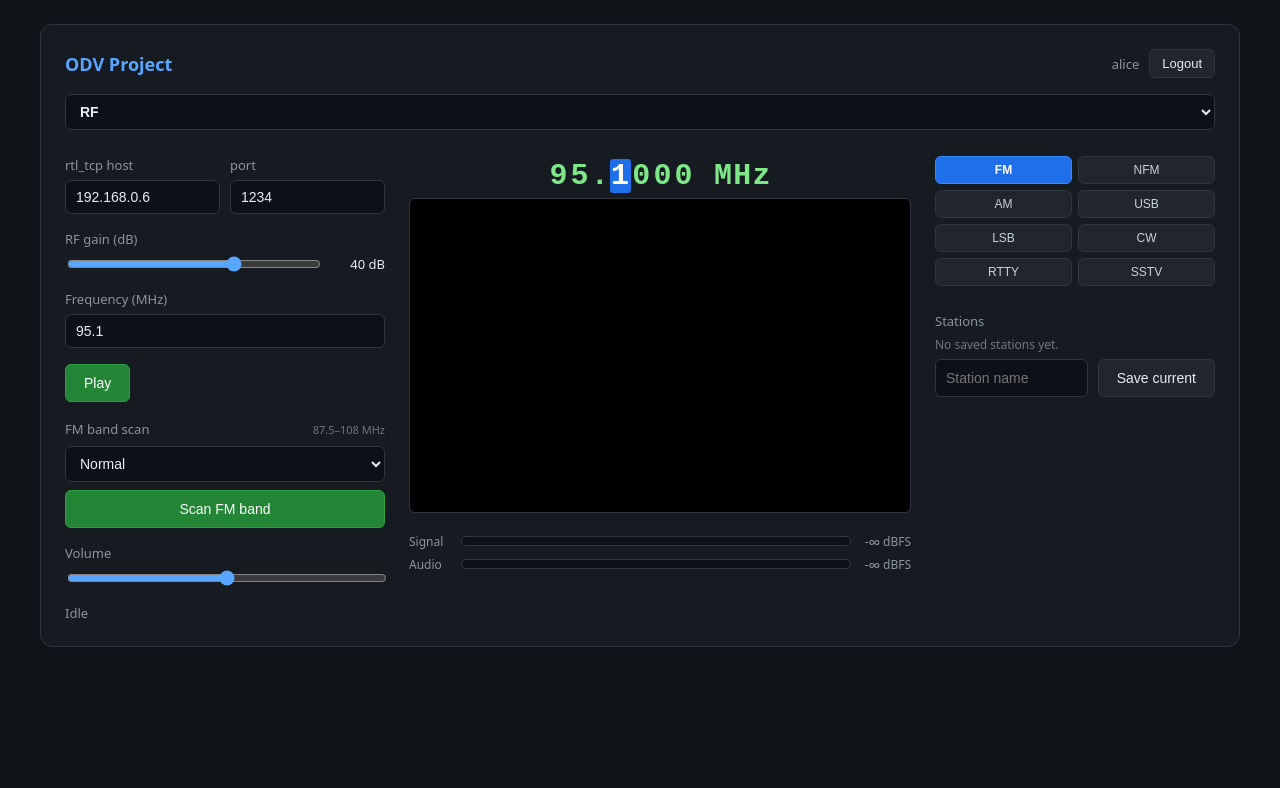
Scenario: App › tuning knob steps change the chosen frequency digit
Expected: the text "Stations" is shown, [935,312,984,330]
Click the button "NFM" at (1146, 170), box [1078,156,1215,184]
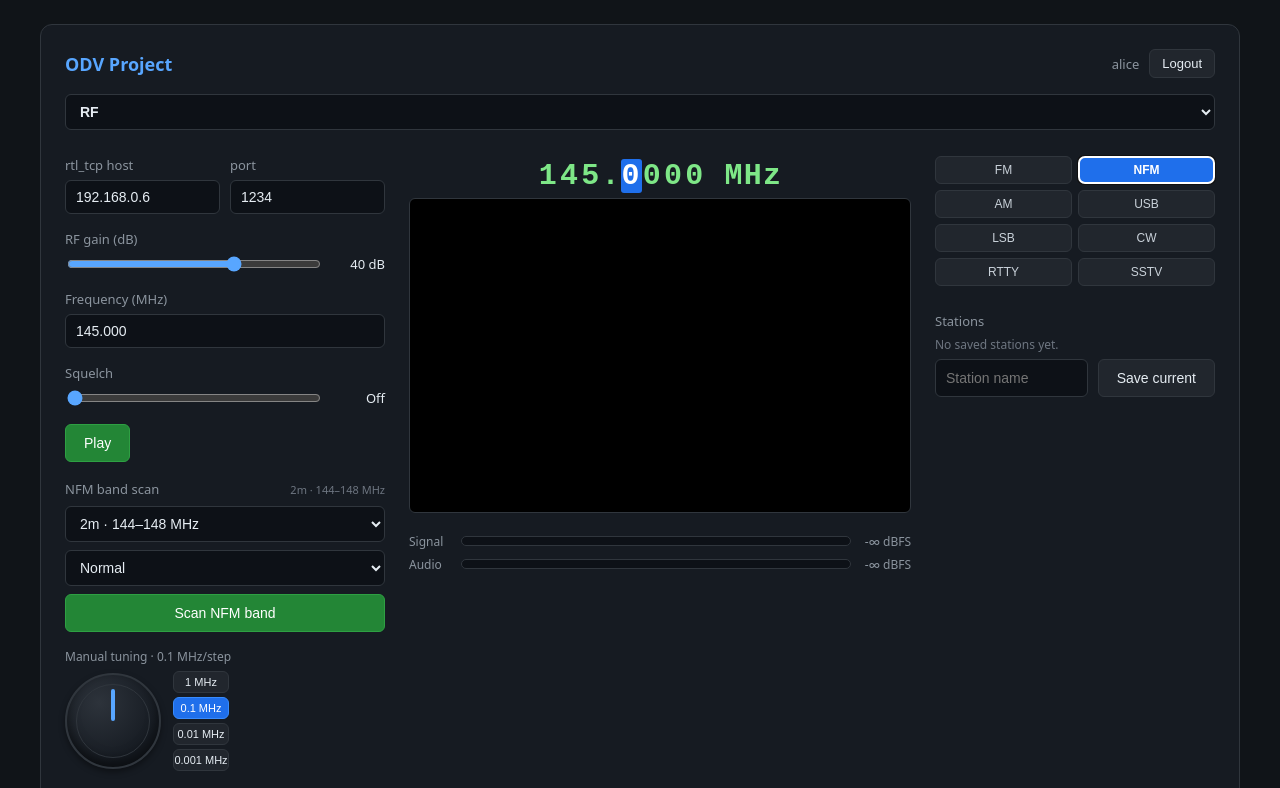
Expected: the text "NFM band scan" is shown, [65,480,159,498]
Click the button "1 MHz" at (201, 682), box [173,671,229,693]
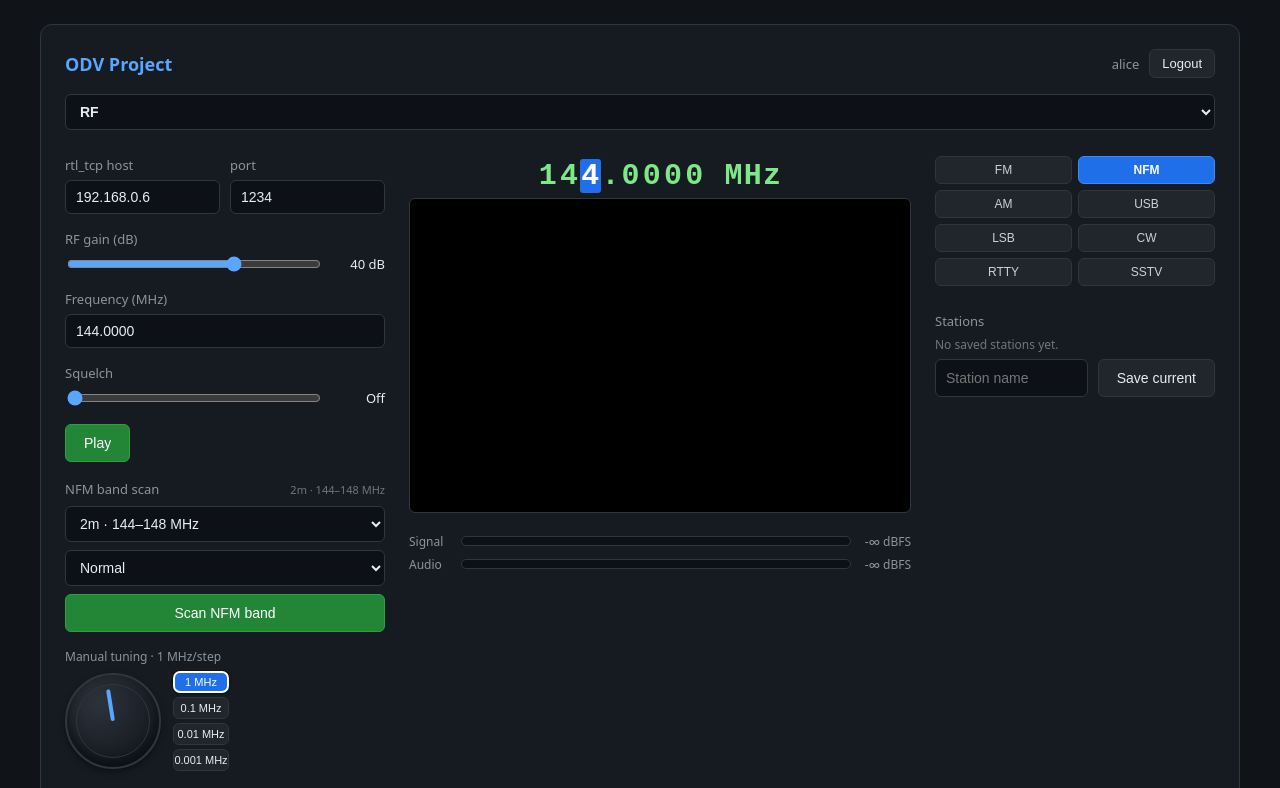
Expected: the element with class "tuned-freq" reads "144.0000 MHz", [539,159,782,193]
Click the button "0.001 MHz" at (201, 760), box [173,749,229,771]
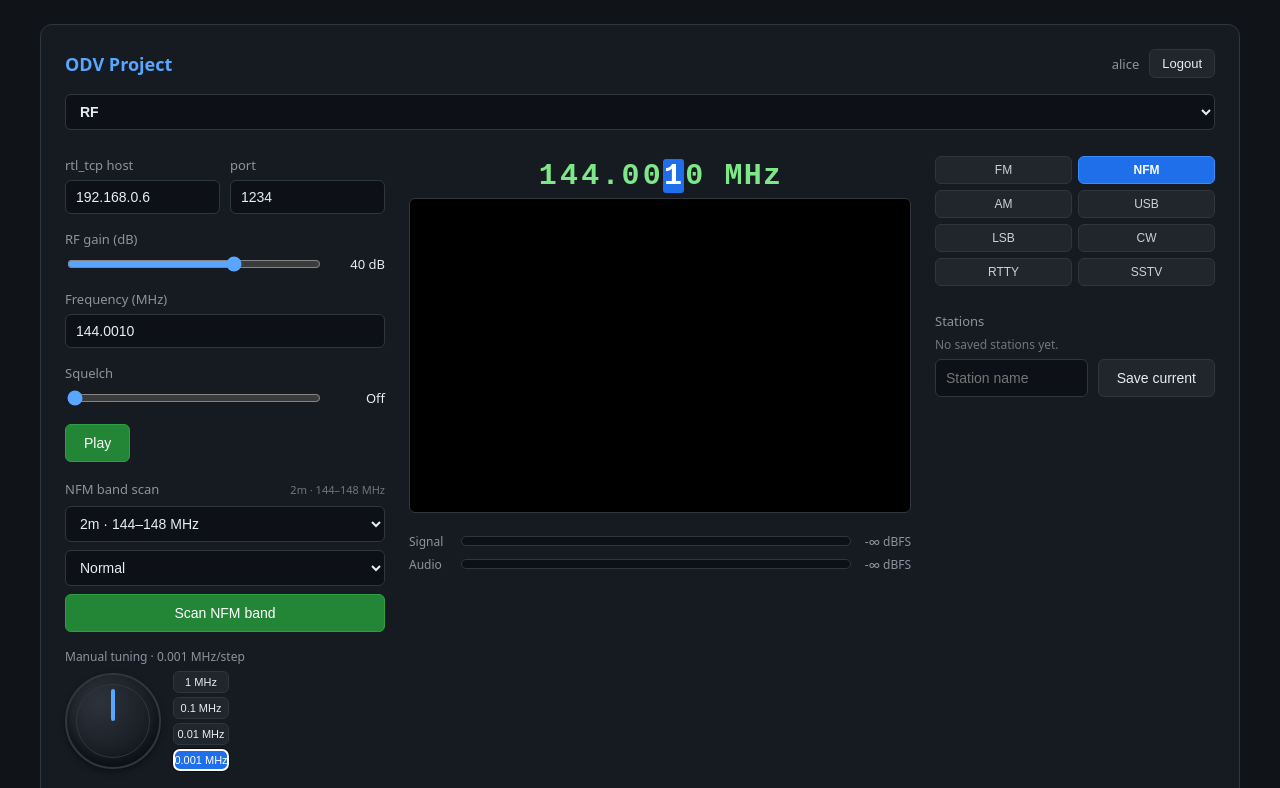
Expected: the element with class "tuned-freq" reads "144.0010 MHz", [539,159,782,193]
